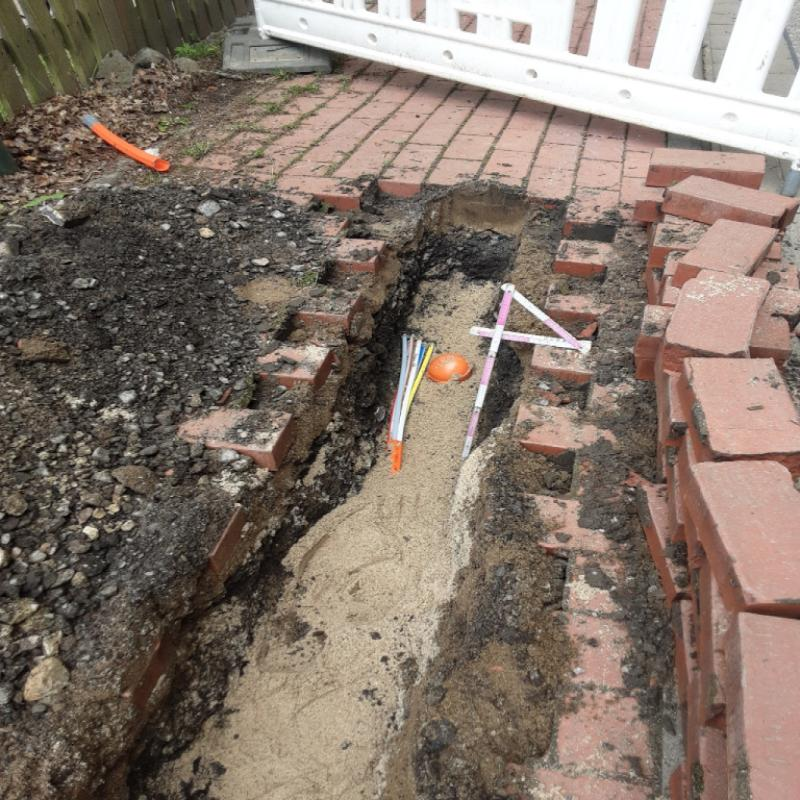Kugelmarker: (428, 353, 470, 381)
Orang-Speednetrohrchen: (388, 332, 435, 474)
